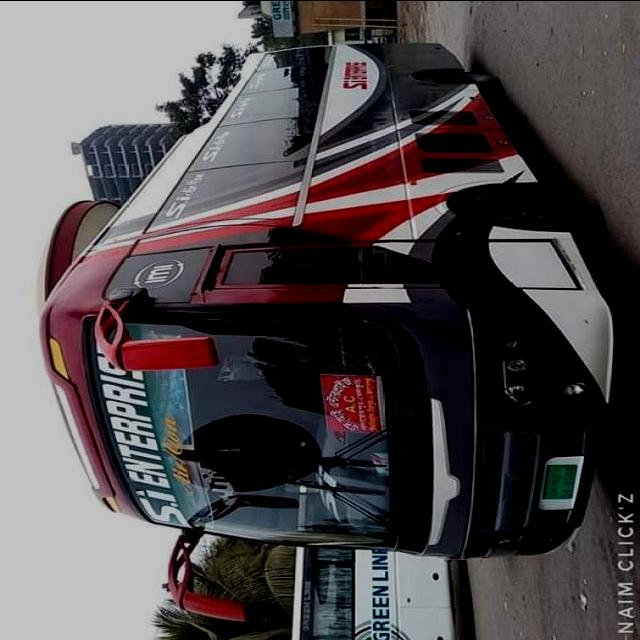bus: (36, 41, 614, 623)
